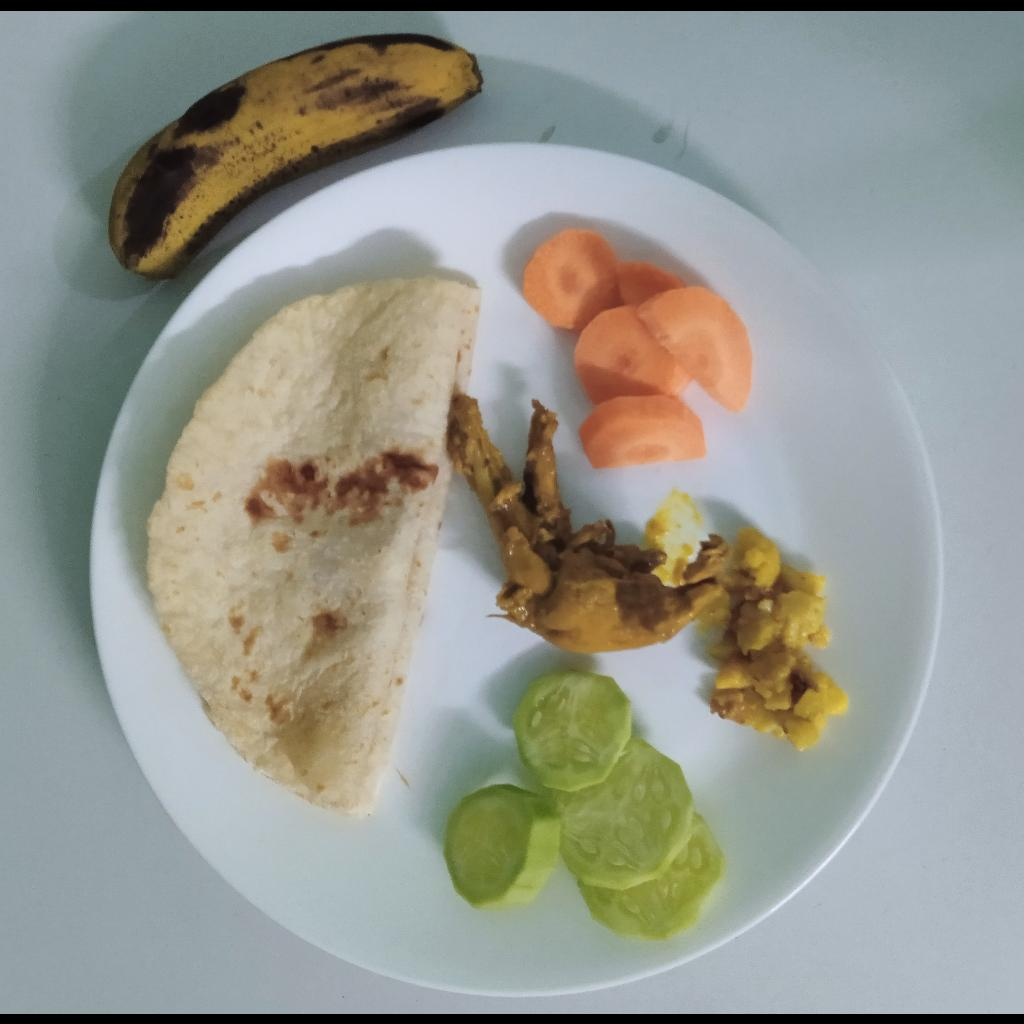banana: (106, 32, 483, 281)
carrot: (522, 229, 753, 468)
cauliflower: (708, 530, 846, 749)
chicken: (450, 392, 733, 654)
cucumber: (443, 667, 727, 941)
ruti: (147, 278, 481, 819)
